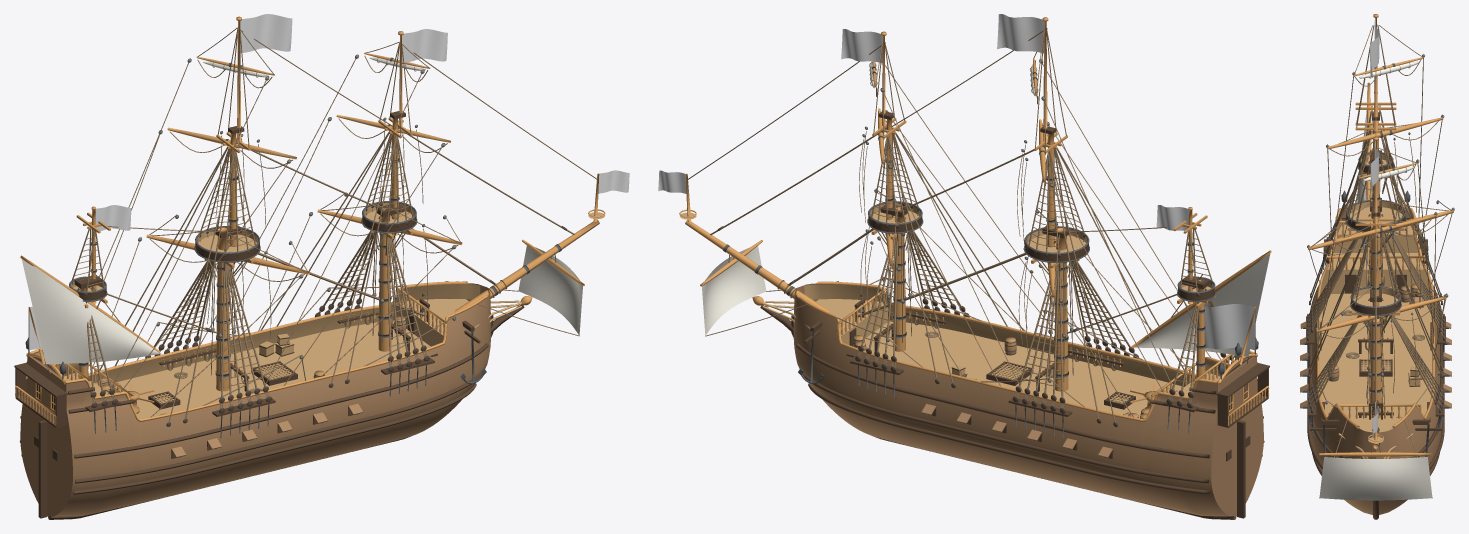
The model's file is ship_v4.glb.
3 renders of one model, left to right at view 1: azimuth 30°, elevation 25°; view 2: azimuth 150°, elevation 25°; view 3: azimuth 270°, elevation 25°, orthographic. The views are drawn at different scales.
Parts seen in each view (by area): view 1: wood_hull, rope, wood_deck, wood_tar, spar, sail, flag, iron, crate; view 2: wood_hull, rope, wood_deck, wood_tar, spar, flag, sail, iron; view 3: rope, wood_deck, spar, wood_hull, sail, wood_tar, iron, flag, barrel, crate, block.
Part boxes in pixels (x1=…): wood_hull: x1=20, y1=283, x2=490, y2=516; rope: x1=28, y1=27, x2=598, y2=421; wood_deck: x1=35, y1=202, x2=604, y2=418; wood_tar: x1=14, y1=111, x2=567, y2=519; spar: x1=15, y1=16, x2=605, y2=425; sail: x1=21, y1=56, x2=582, y2=364; flag: x1=29, y1=14, x2=629, y2=350; iron: x1=25, y1=54, x2=567, y2=457; crate: x1=153, y1=333, x2=293, y2=403; wood_hull: x1=793, y1=283, x2=1263, y2=516; rope: x1=687, y1=28, x2=1255, y2=422; wood_deck: x1=679, y1=203, x2=1240, y2=418; wood_tar: x1=717, y1=111, x2=1269, y2=519; spar: x1=679, y1=17, x2=1271, y2=426; flag: x1=658, y1=14, x2=1254, y2=352; sail: x1=702, y1=61, x2=1270, y2=356; iron: x1=717, y1=59, x2=1258, y2=458; rope: x1=1308, y1=25, x2=1452, y2=497; wood_deck: x1=1319, y1=154, x2=1432, y2=458; spar: x1=1308, y1=14, x2=1453, y2=456; wood_hull: x1=1300, y1=208, x2=1451, y2=514; sail: x1=1319, y1=61, x2=1432, y2=500; wood_tar: x1=1306, y1=112, x2=1445, y2=519; iron: x1=1302, y1=54, x2=1453, y2=456; flag: x1=1370, y1=18, x2=1380, y2=438; barrel: x1=1328, y1=283, x2=1424, y2=417; crate: x1=1361, y1=317, x2=1426, y2=386; block: x1=1307, y1=54, x2=1454, y2=404.
Size of the model in its own units: 41.55 by 29.97 by 9.86.
